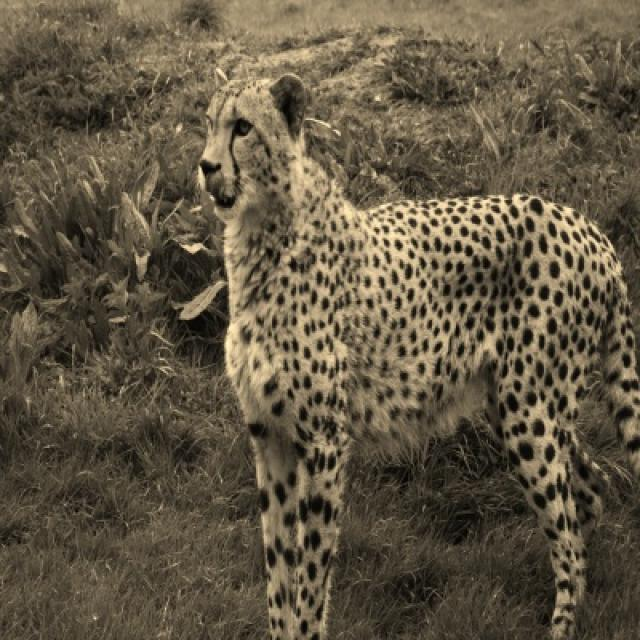Cheetah: (197, 67, 638, 638)
